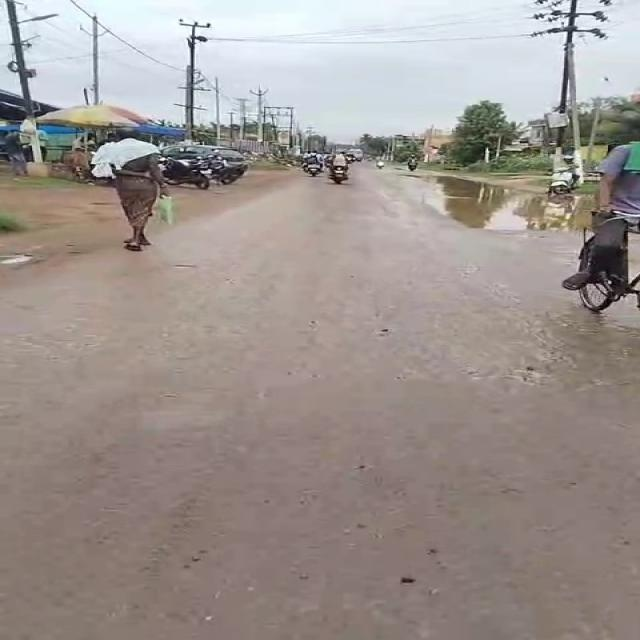pothole: (383, 165, 604, 235), (0, 251, 28, 265)
